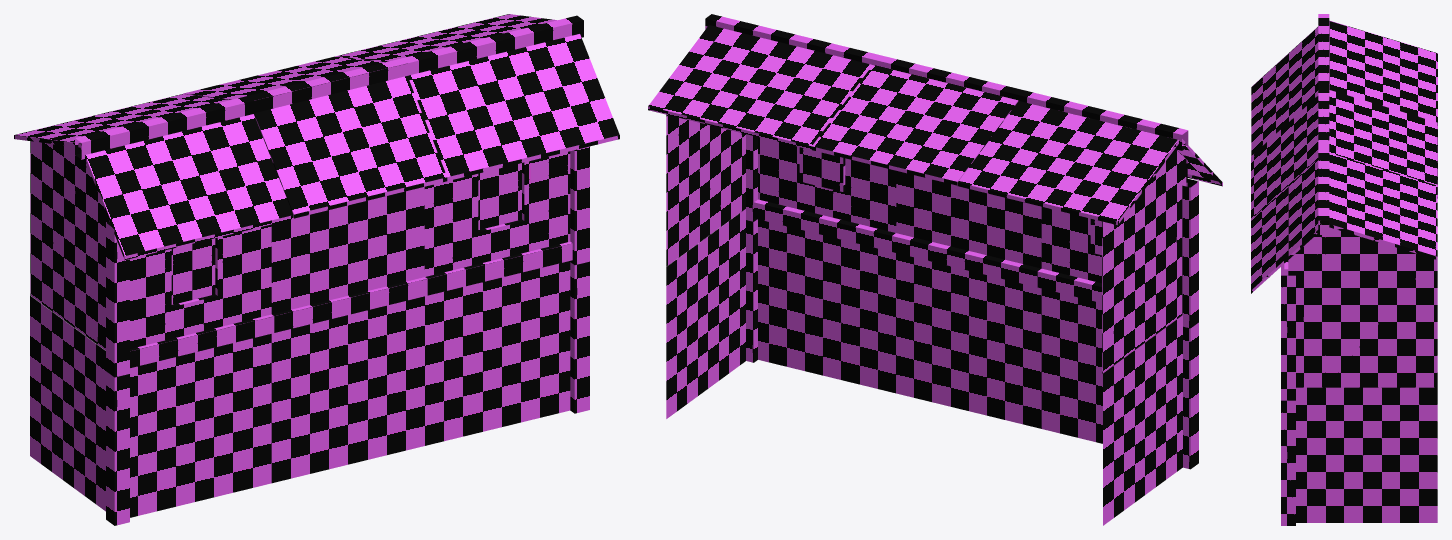
File: SM_small house_v1.fbx
3 views of the same model, side by side, from view 1: azimuth 30°, elevation 25°; view 2: azimuth 150°, elevation 25°; view 3: azimuth 270°, elevation 25° (orthographic). The views are drawn at different scales.
Visible parts, largest first — view 1: Cube.026; view 2: Cube.026; view 3: Cube.026.
Part boxes in pixels (x1=…): Cube.026: x1=14, y1=14, x2=619, y2=525; Cube.026: x1=648, y1=14, x2=1222, y2=525; Cube.026: x1=1251, y1=14, x2=1437, y2=525.
Bounding box in the file's own units: 917 × 645 × 350.
